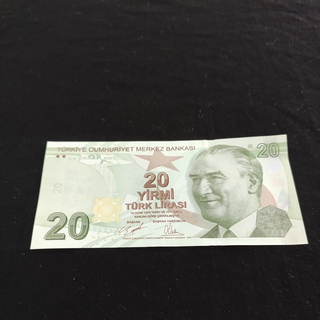20TLFront: (29, 132, 309, 245)
